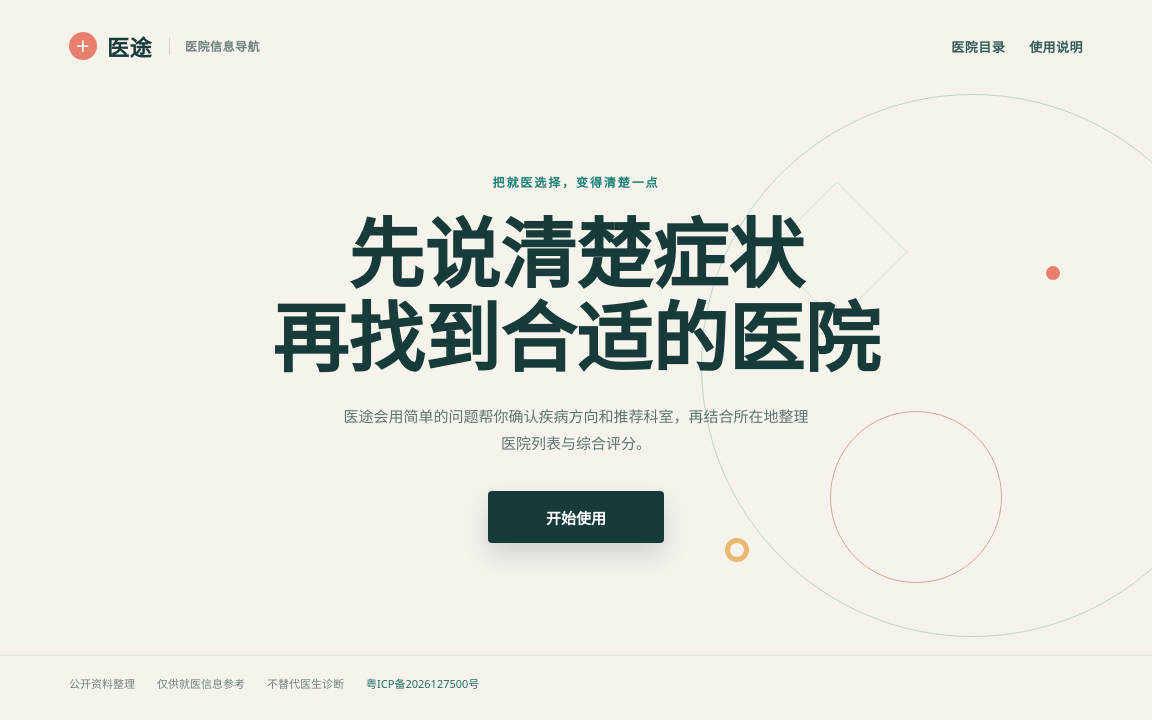
symptom clarification card › shows exactly one accessible question card for an ambiguous description
Click the button "开始使用" at (576, 517), box [488,491,664,543]
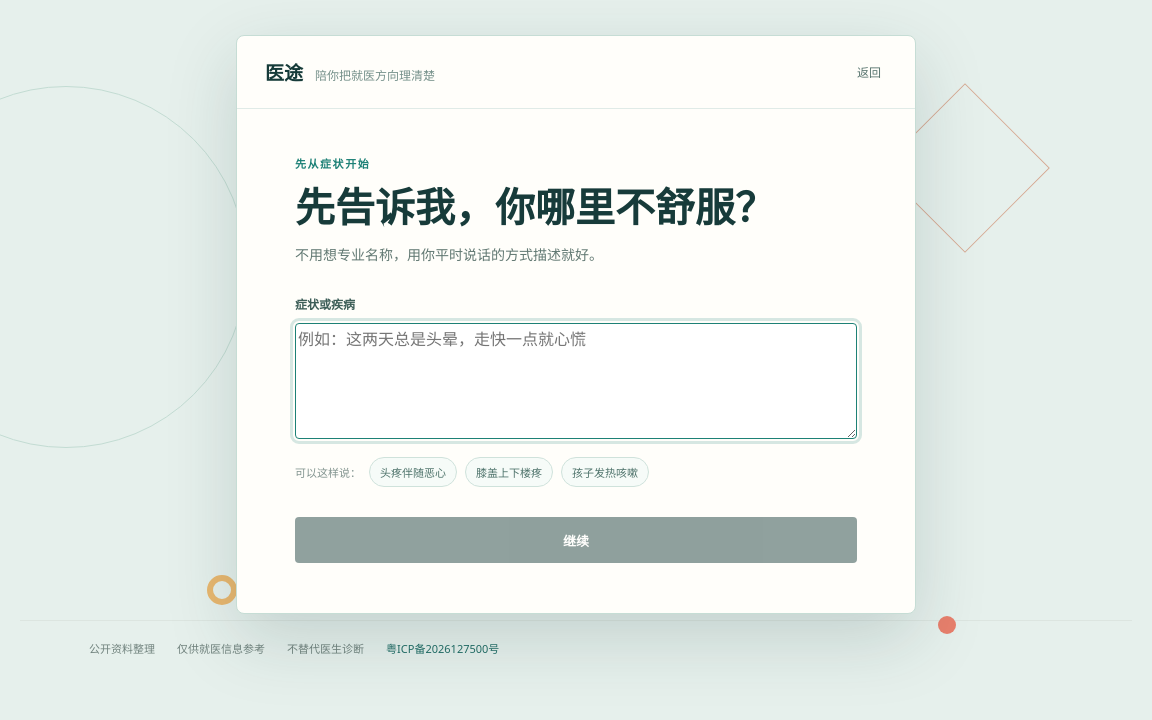
Type "不舒服" into the text box labelled "症状或疾病" at (576, 381), box [295,323,857,439]
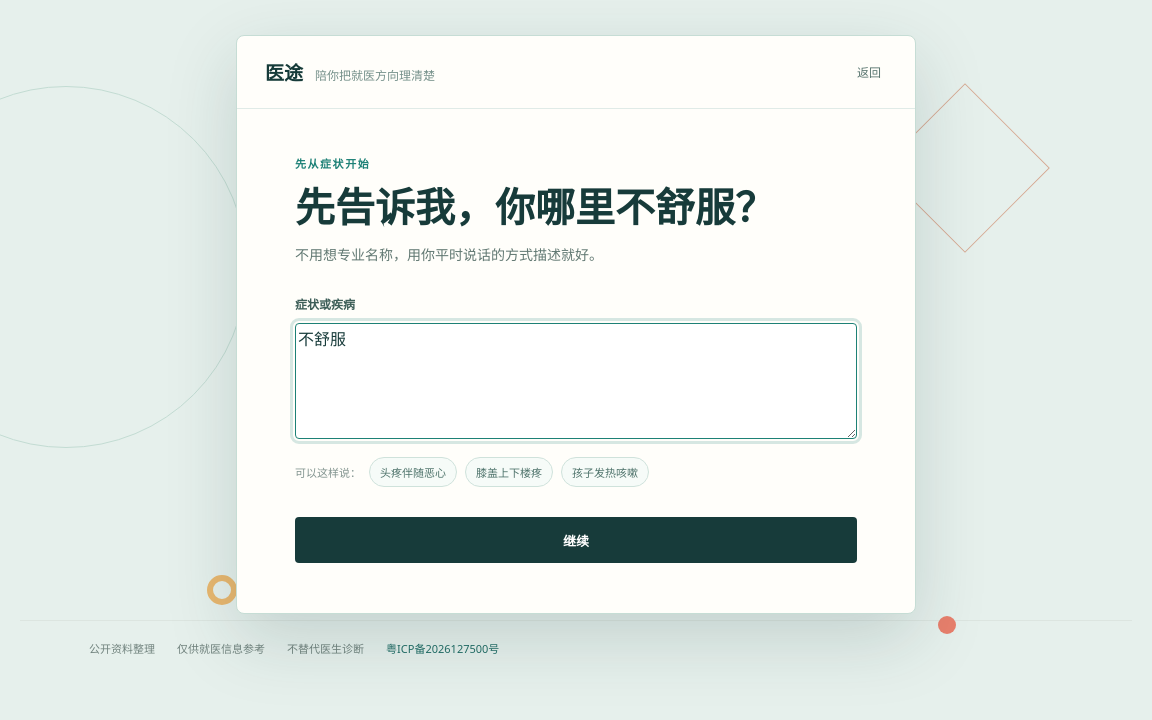
Click the button "继续" at (576, 540), box [295,517,857,563]
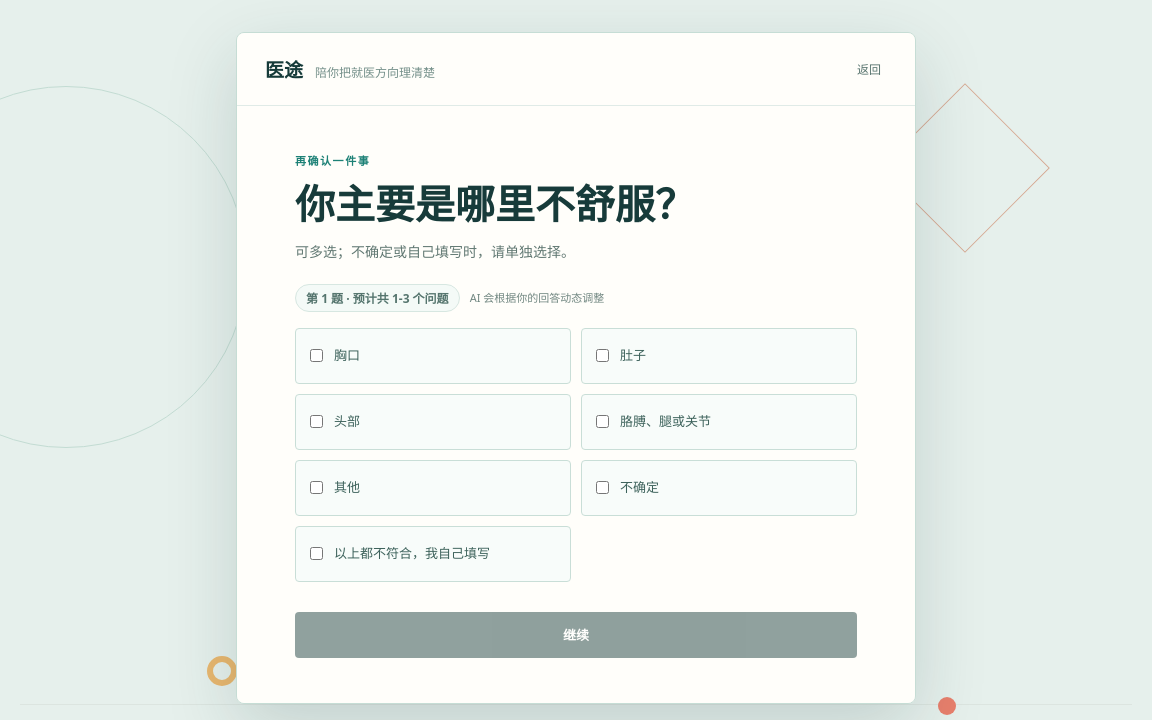
expect the element named "补充确认问题" is shown: met, box [295,153,857,658]
expect the heading "你主要是哪里不舒服？" is shown: met, box [295,176,695,231]
expect the text "第 1 题 · 预计共 1-3 个问题" is shown: met, box [295,284,460,312]
